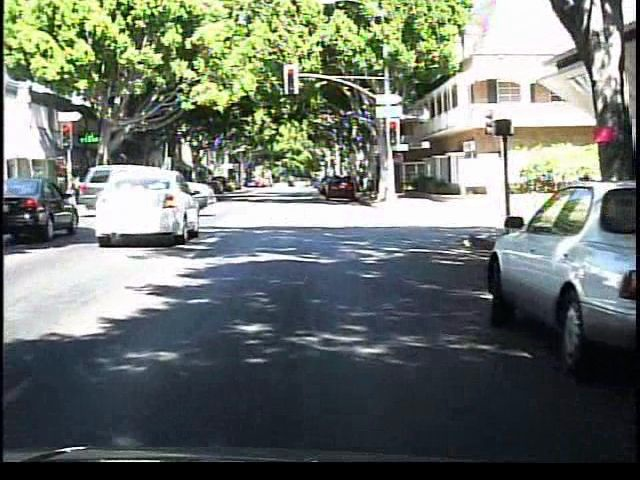person: (66, 164, 90, 210)
